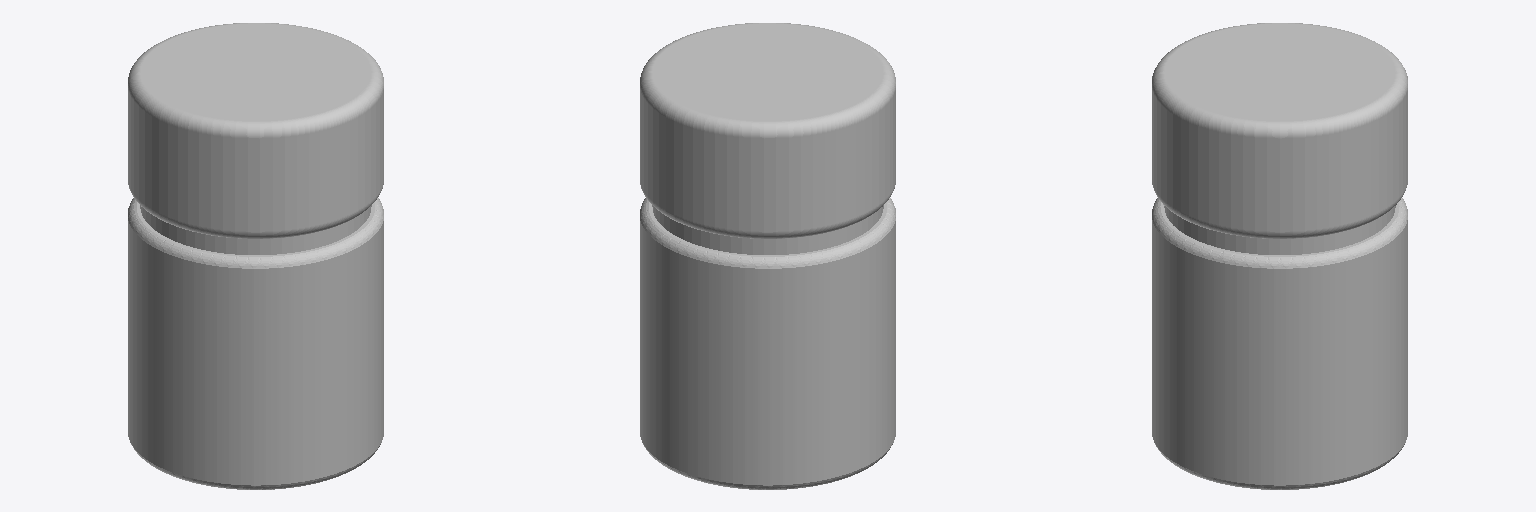
The model's file is shortLightFlatCylinder.obj.
3 views of the same model, side by side, from view 1: azimuth 30°, elevation 25°; view 2: azimuth 150°, elevation 25°; view 3: azimuth 270°, elevation 25° (orthographic).
Parts seen in each view (by area): view 1: Cylinder, Cylinder.002_Cylinder.003, Cylinder.001_Cylinder.002; view 2: Cylinder, Cylinder.002_Cylinder.003, Cylinder.001_Cylinder.002; view 3: Cylinder, Cylinder.002_Cylinder.003, Cylinder.001_Cylinder.002.
Boxes of the visible parts, x1,y1,x2,y2 form: Cylinder: [128, 198, 383, 489]; Cylinder.002_Cylinder.003: [128, 23, 383, 238]; Cylinder.001_Cylinder.002: [140, 205, 371, 254]; Cylinder: [640, 198, 895, 489]; Cylinder.002_Cylinder.003: [640, 23, 895, 238]; Cylinder.001_Cylinder.002: [652, 205, 883, 254]; Cylinder: [1152, 198, 1407, 489]; Cylinder.002_Cylinder.003: [1152, 23, 1407, 238]; Cylinder.001_Cylinder.002: [1164, 206, 1395, 254].
Bounding box in the file's own units: 2 × 3.15 × 2.